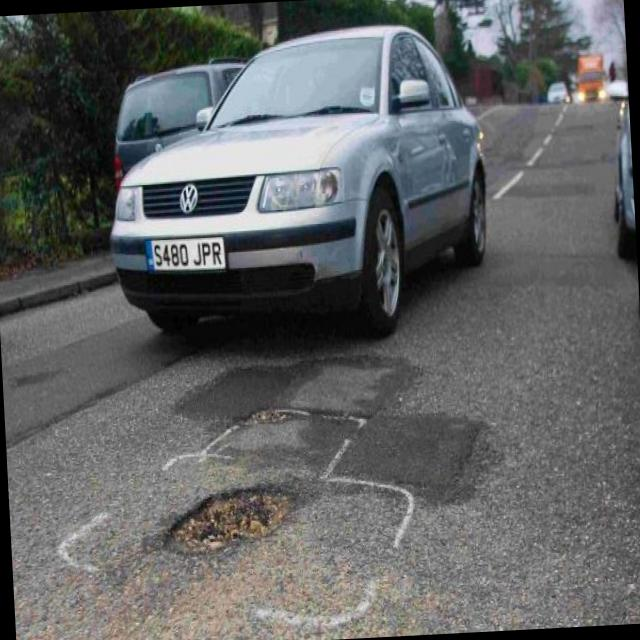Potholes: (165, 478, 303, 571)
